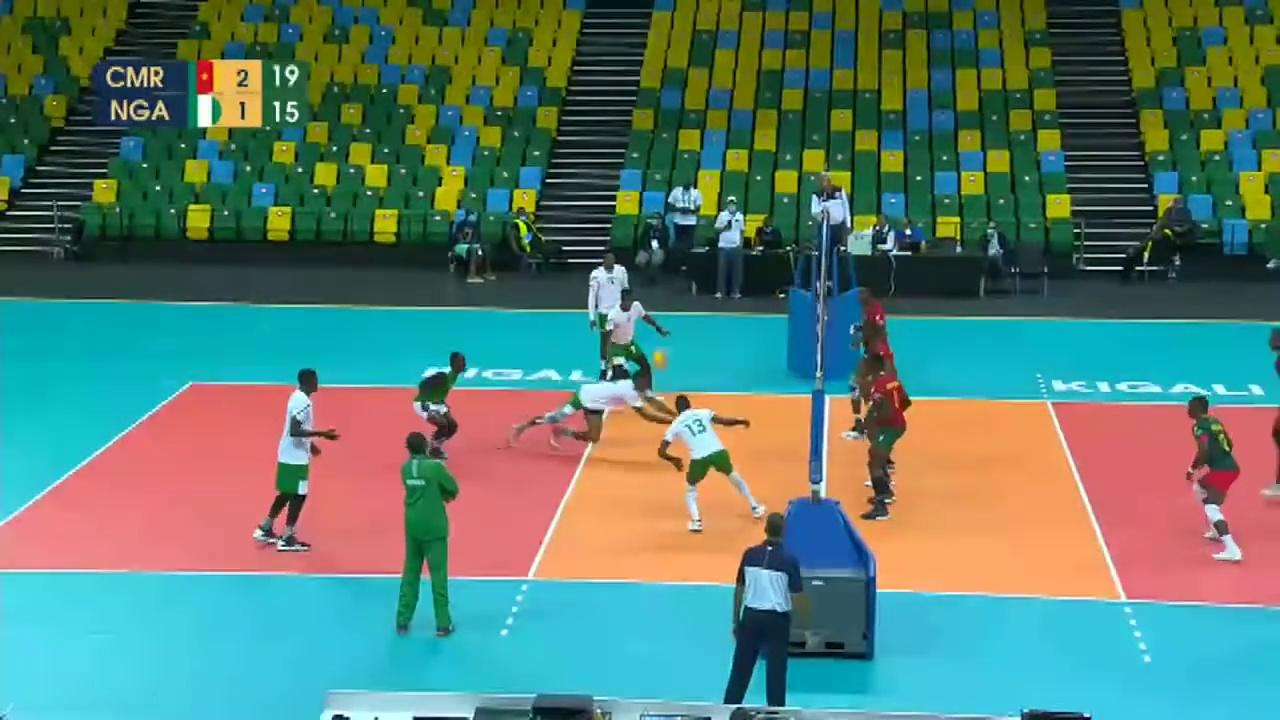player: (504, 370, 694, 454), (257, 371, 342, 546), (663, 400, 770, 527), (1182, 394, 1247, 558), (859, 354, 911, 520), (852, 320, 904, 485), (854, 286, 904, 434), (601, 281, 662, 398), (411, 351, 473, 464), (585, 247, 633, 384)
refree: (726, 515, 802, 704), (814, 173, 851, 289)
